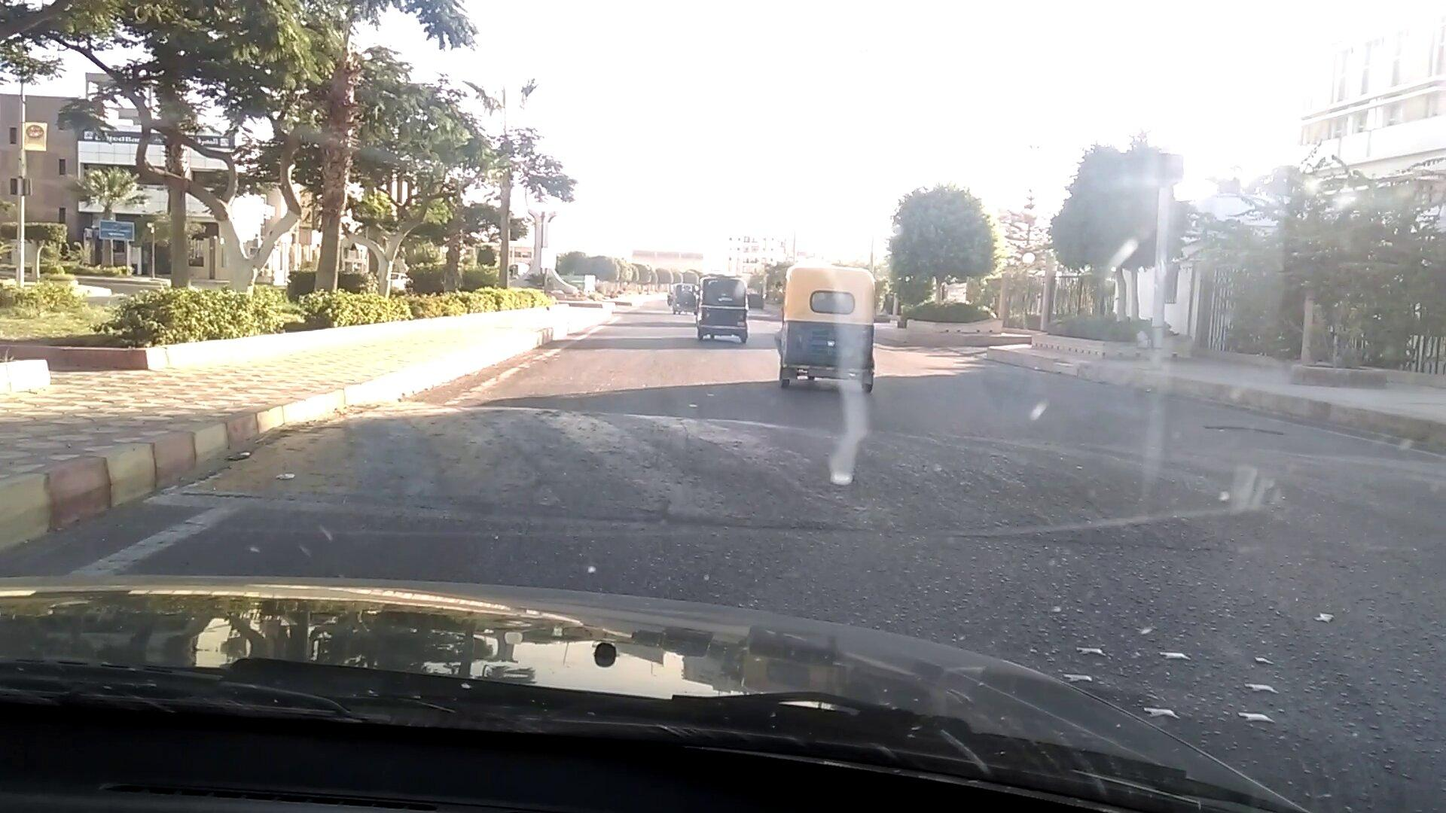Bump: (354, 391, 1446, 580)
